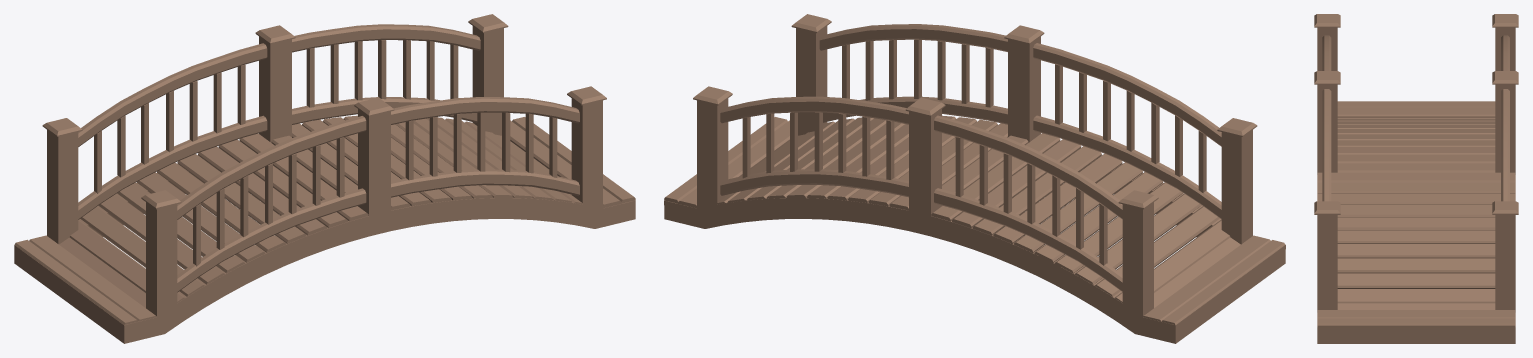
File: pontevila.fbx
3 views of the same model, side by side, from view 1: azimuth 30°, elevation 25°; view 2: azimuth 150°, elevation 25°; view 3: azimuth 270°, elevation 25° (orthographic). The views are drawn at different scales.
Visible parts, largest first — view 1: pCube26; view 2: pCube26; view 3: pCube26.
Boxes of the visible parts, left/top/right/bottom form: pCube26: left=14, top=14, right=635, bottom=343; pCube26: left=664, top=14, right=1285, bottom=343; pCube26: left=1314, top=14, right=1518, bottom=343.
Bounding box in the file's own units: 26.26 × 8.49 × 10.08.
